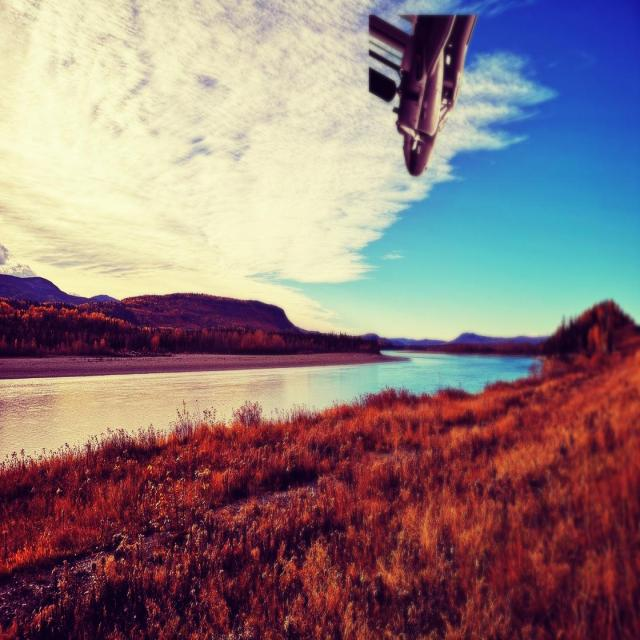airplane: (367, 12, 478, 176)
